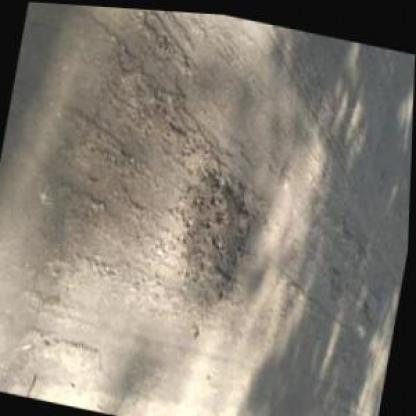pothole: (165, 160, 262, 304)
